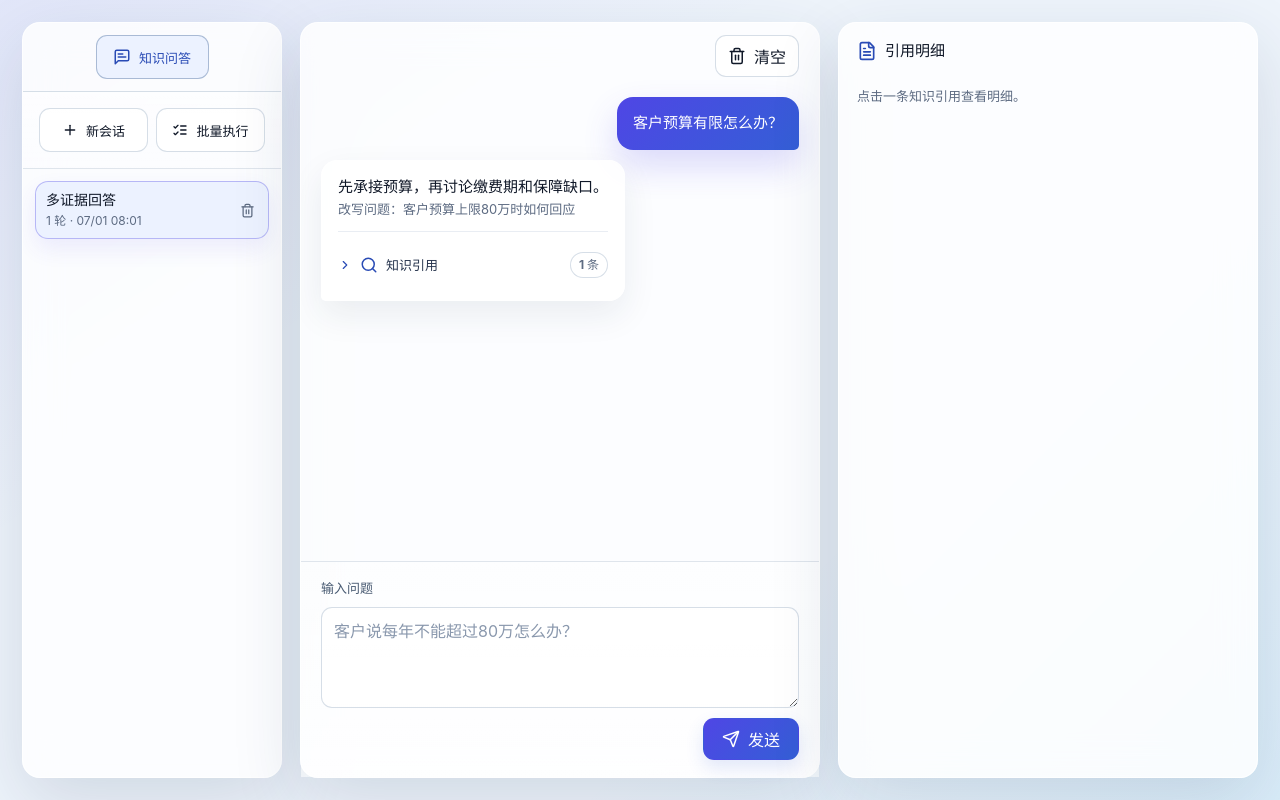
Scenario: 只显示模型实际引用的知识并使用连续序号
Expected: the text "点击一条知识引用查看明细。" is shown, [857,88,1026,104]
What coordinates should you click on to do the following:
click the button "知识引用 1 条"
I would click on:
 (412, 265)
Its box is [338,244,608,286].
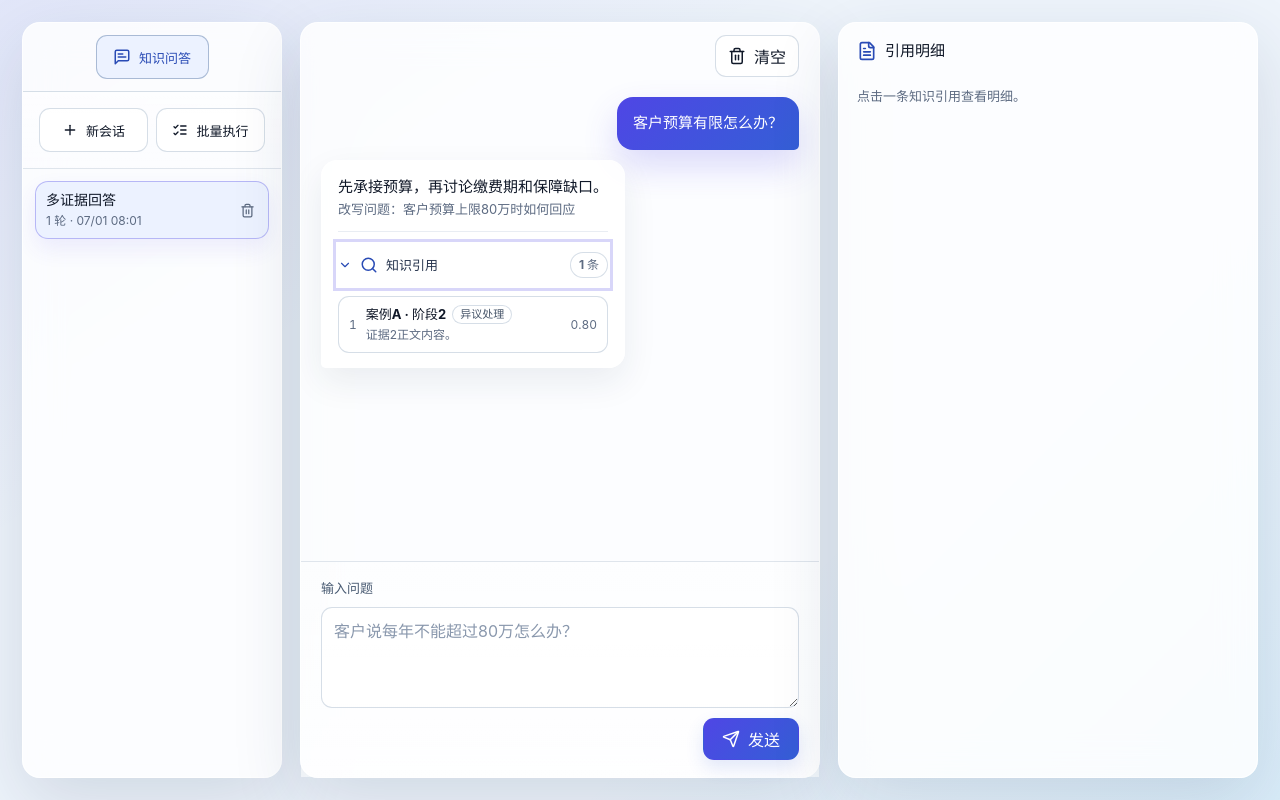
Now the text "1" is shown, box [349,315,357,335]
Now the text "案例A · 阶段2" is shown, box [366,305,446,324]
Now the text "证据2正文内容。" is shown, box [366,327,457,342]
What coordinates should you click on to do the following:
click the button "1 案例A · 阶段2 异议处理 证据2正文内容。 0.80"
I would click on:
 (473, 325)
Its box is [338,296,608,353].
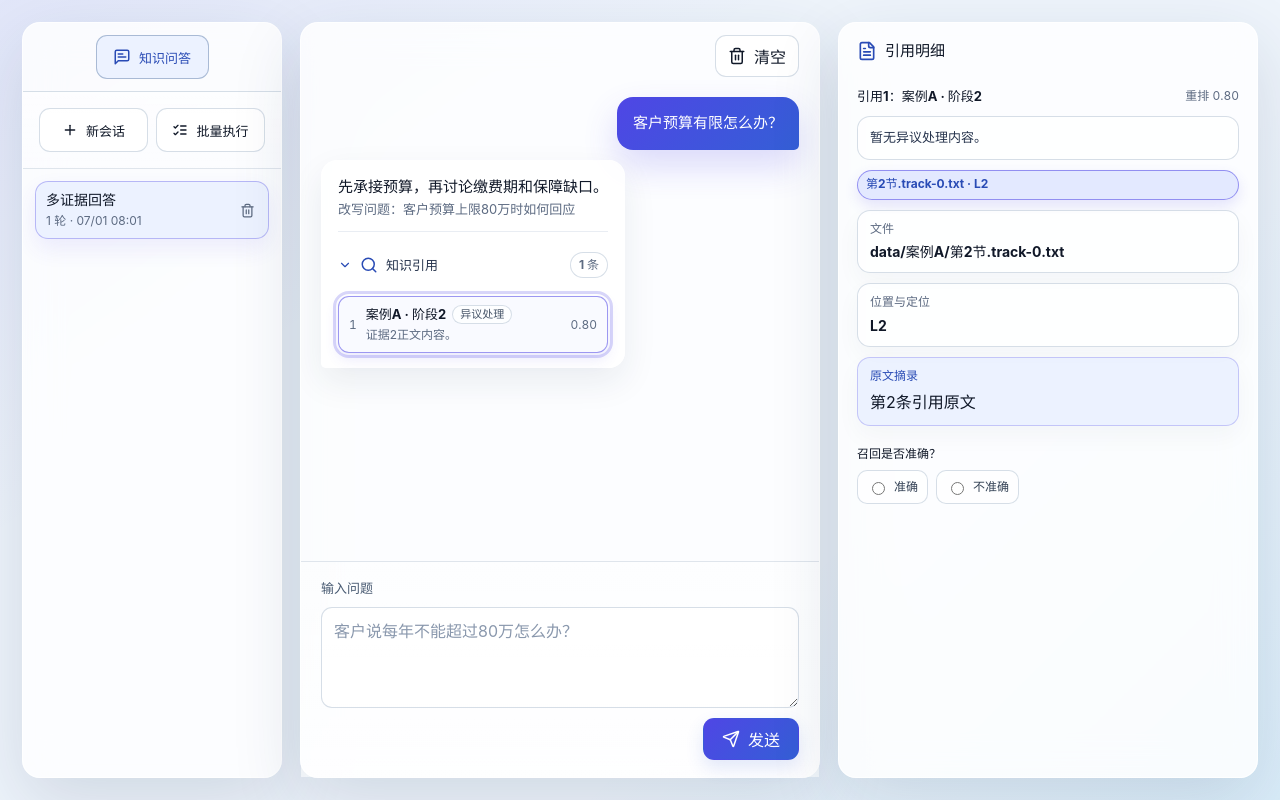
Now the text "引用1：案例A · 阶段2" is shown, box [857,87,982,106]
What coordinates should you click on to do the following:
click the radio button with aria-label "引用1召回准确"
I would click on:
 (878, 489)
Its box is [872,482,885,495].
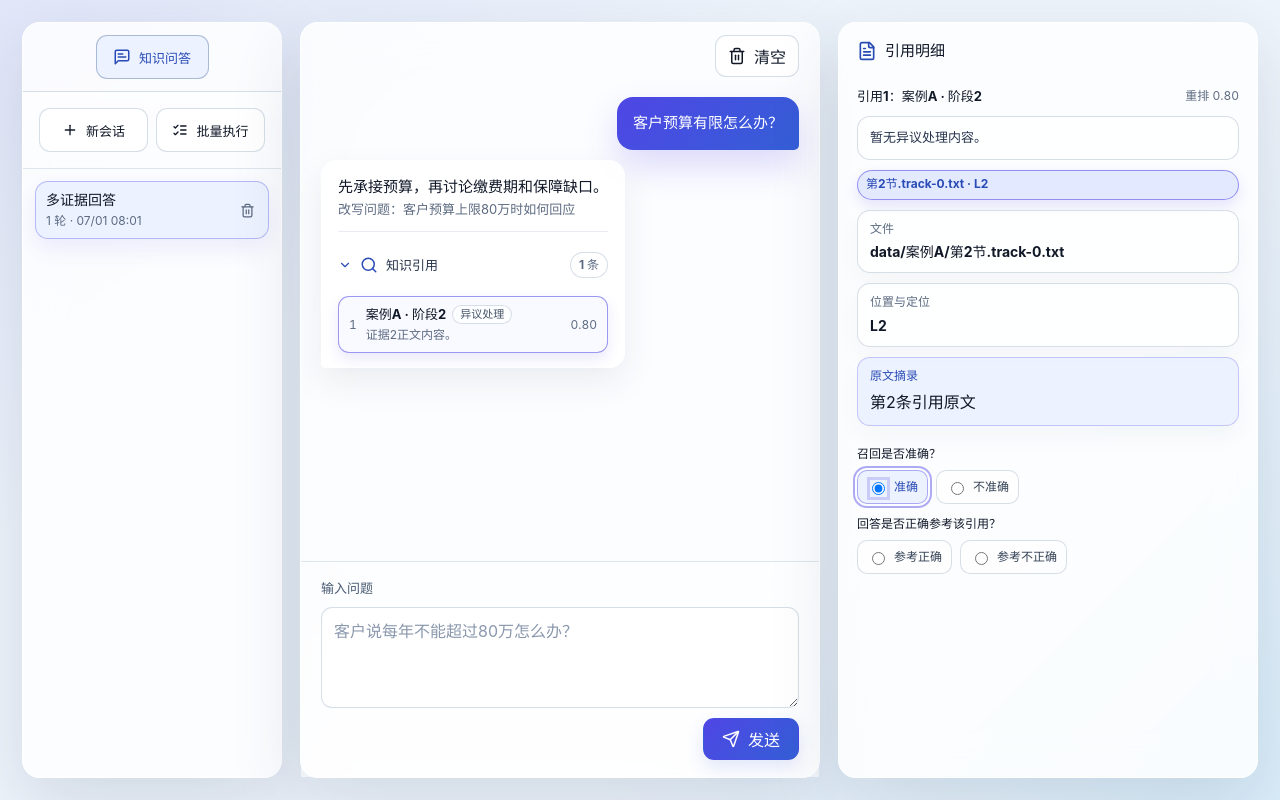
What coordinates should you click on to do the following:
click the radio button with aria-label "引用1参考正确"
I would click on:
 (878, 558)
Its box is [872,552,885,565].
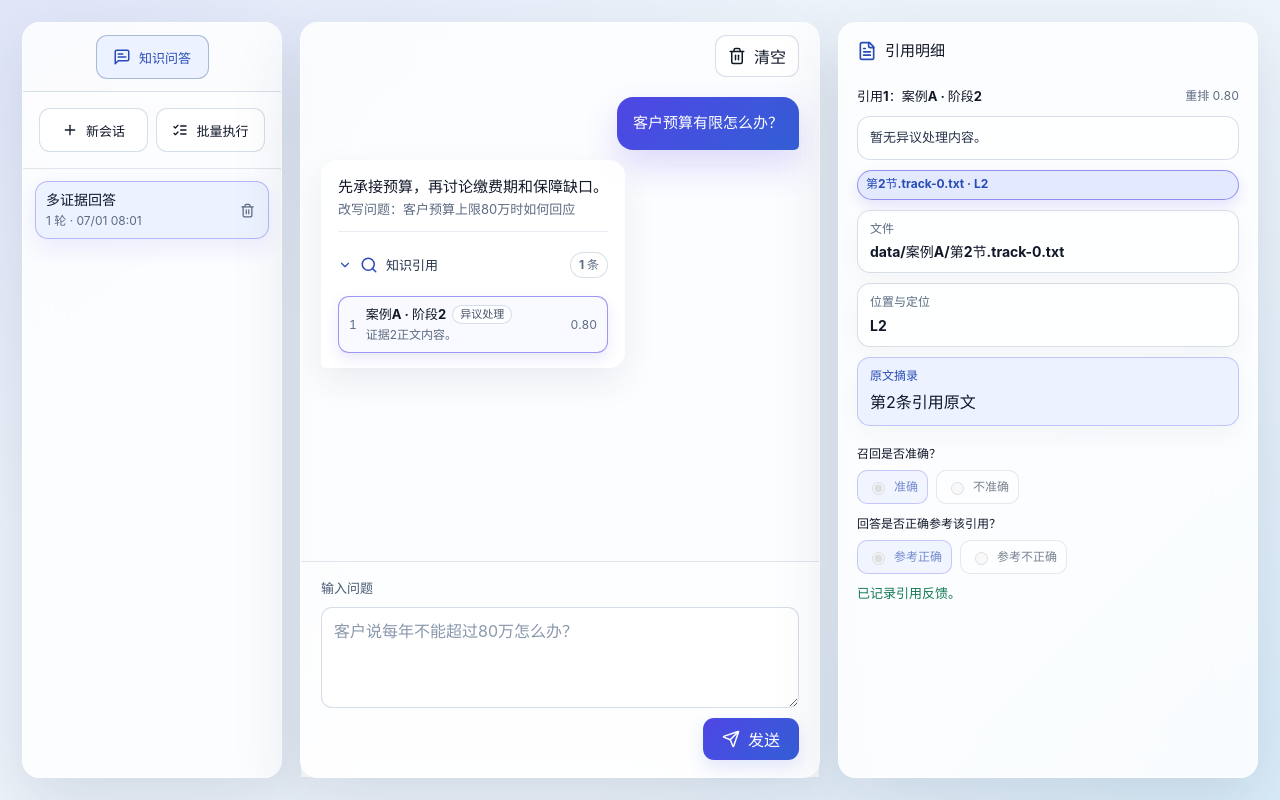
Now the text "已记录引用反馈。" is shown, box [857,585,961,601]
